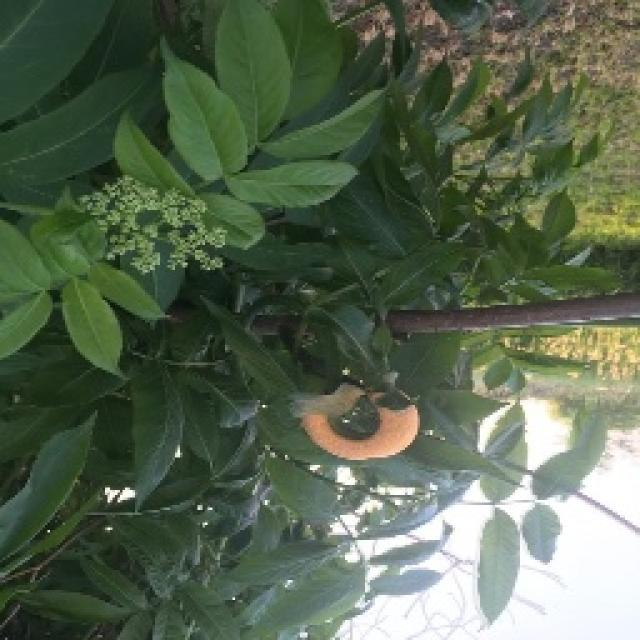Elderberry_rust: (292, 375, 422, 463)
